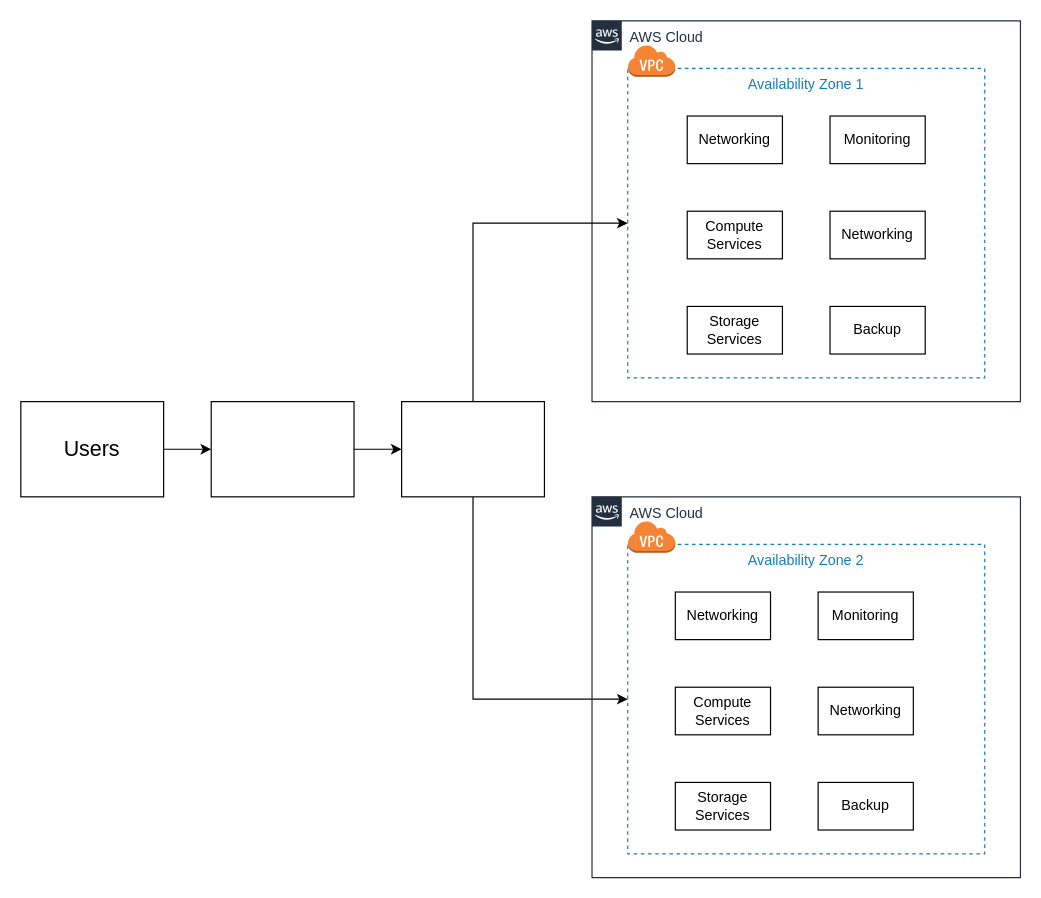
The diagram is 1041 pixels wide and 898 high, and some of its shapes have lost their labels. Each missing label, with the centre of its shape:
Load Balancing: (472,448)
Routing: (282,448)
